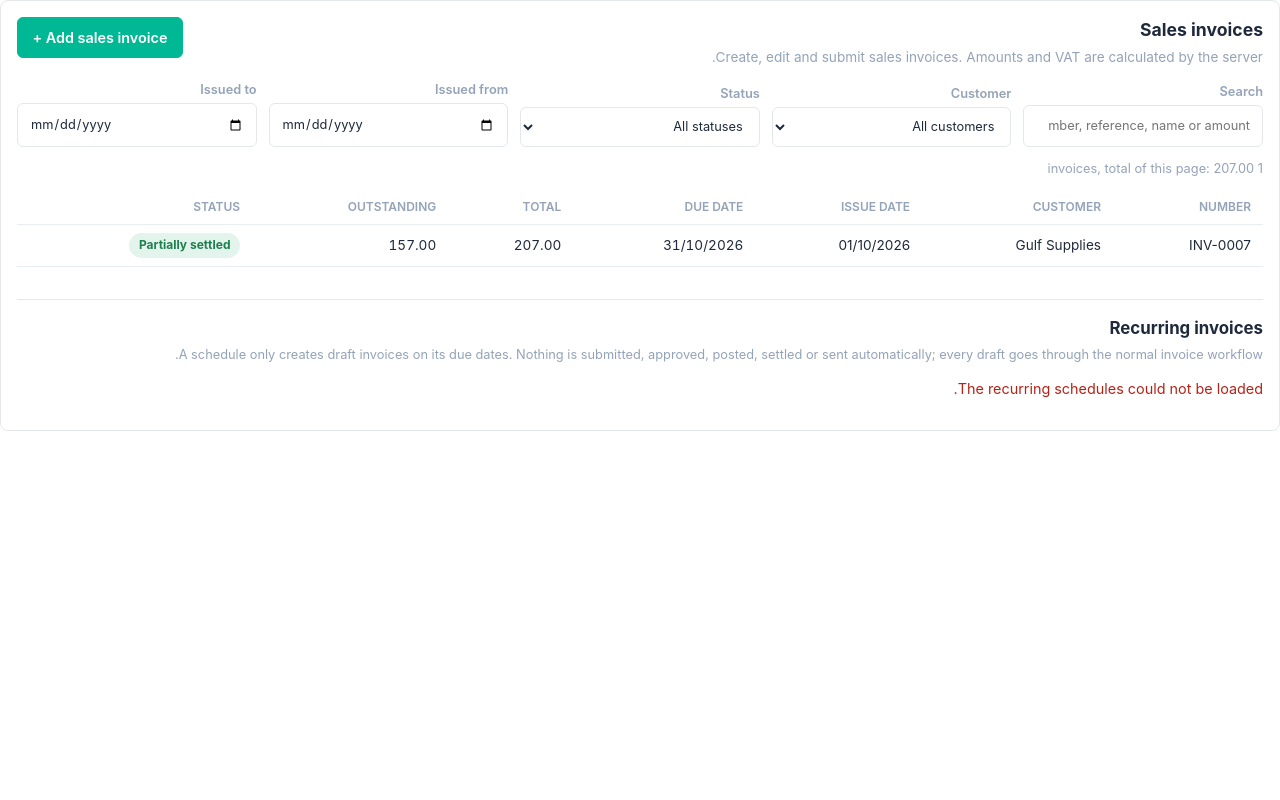
Test: Invoice details dialog layout › shows the summary header and the three sections for a approved invoice
Click the text "INV-0007". click: (1188, 245)
box: left=1113, top=225, right=1263, bottom=266
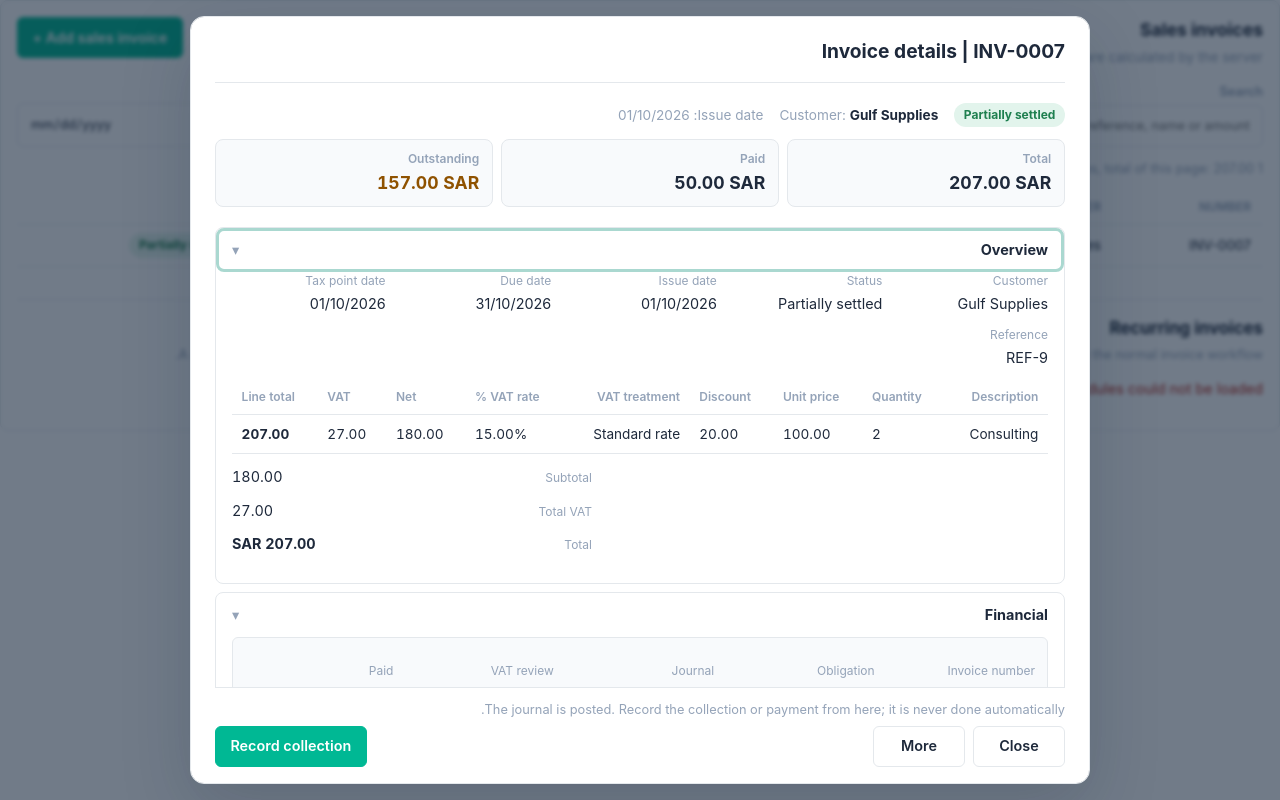
expect the element named "Invoice summary" shows "Partially settled": met, box left=964, top=107, right=1055, bottom=122
expect the element named "Invoice summary" shows "Gulf Supplies": met, box left=850, top=107, right=938, bottom=123
expect the element named "Invoice summary" shows "01/10/2026": met, box left=618, top=107, right=690, bottom=123
